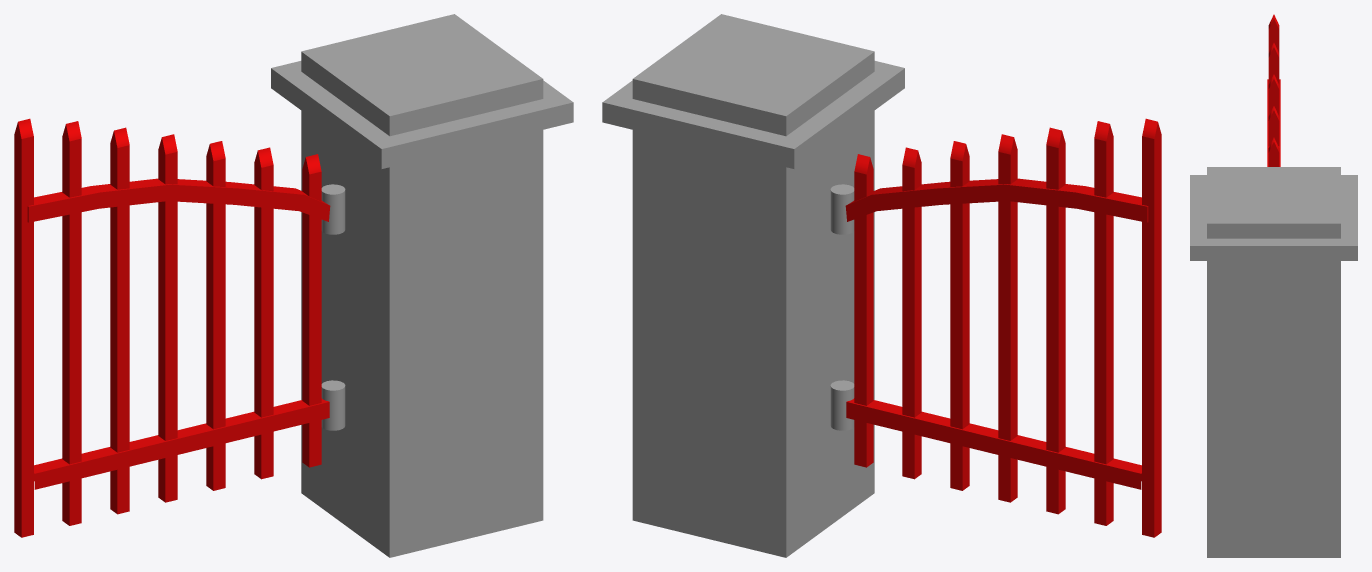
File: GothicGate_NoUV.fbx
3 views of the same model, side by side, from view 1: azimuth 30°, elevation 25°; view 2: azimuth 150°, elevation 25°; view 3: azimuth 270°, elevation 25° (orthographic). The views are drawn at different scales.
Parts seen in each view (by area): view 1: GohicCornerStone, GothicGraveyardGate; view 2: GohicCornerStone, GothicGraveyardGate; view 3: GohicCornerStone, GothicGraveyardGate.
Boxes of the visible parts, bbox=[...] form: GohicCornerStone: bbox=[271, 14, 573, 557]; GothicGraveyardGate: bbox=[14, 118, 345, 537]; GohicCornerStone: bbox=[602, 14, 904, 557]; GothicGraveyardGate: bbox=[830, 118, 1161, 537]; GohicCornerStone: bbox=[1190, 167, 1357, 557]; GothicGraveyardGate: bbox=[1267, 14, 1280, 166].
Size of the model in its own units: 365 by 337 by 140.
